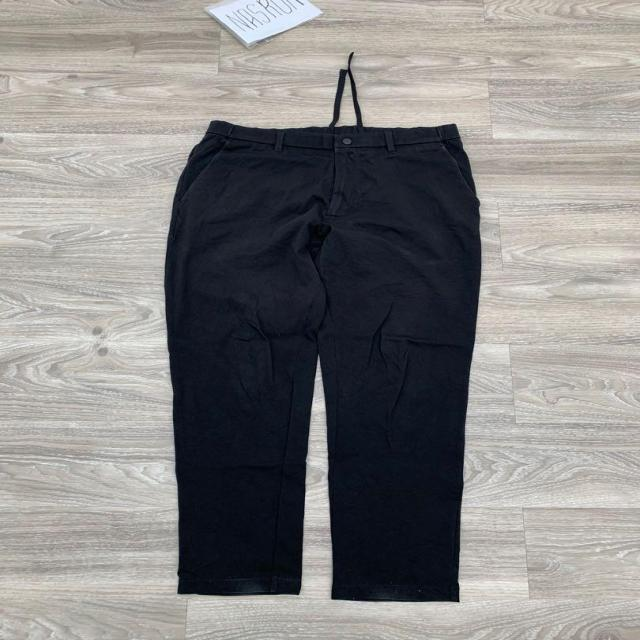long-pants: (165, 113, 482, 604)
